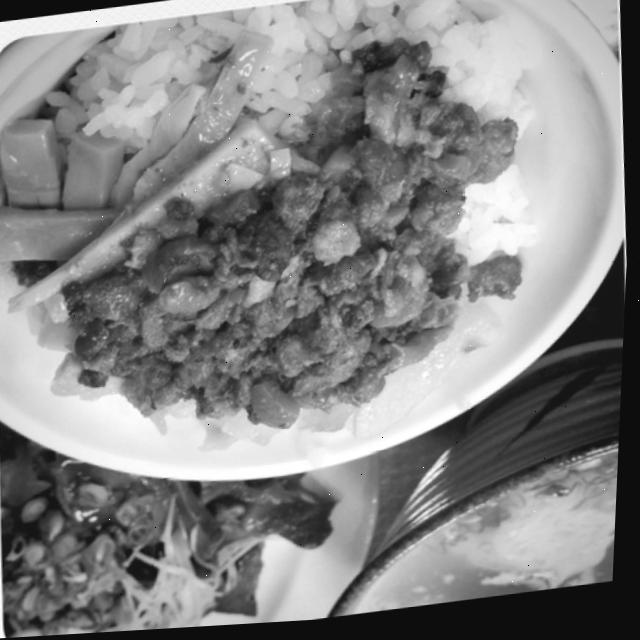猪肉菜式: (0, 0, 621, 523)
